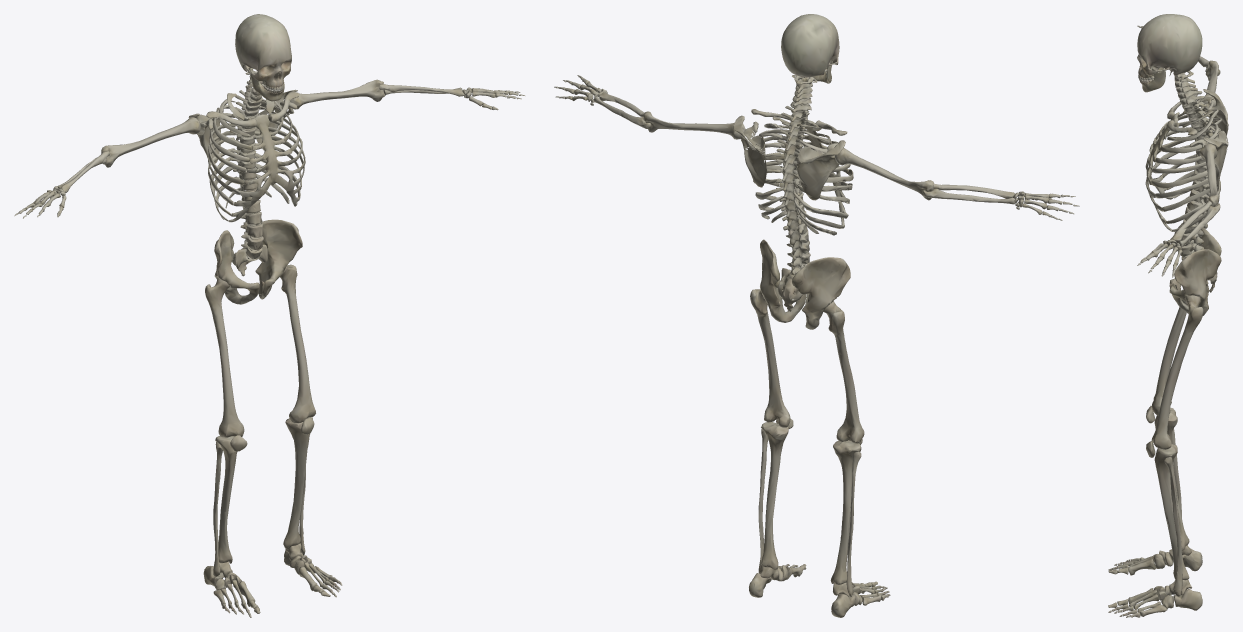
File: skel.glb
3 views of the same model, side by side, from view 1: azimuth 30°, elevation 25°; view 2: azimuth 150°, elevation 25°; view 3: azimuth 270°, elevation 25° (orthographic). The views are drawn at different scales.
Parts seen in each view (by area): view 1: torso, tibR, femR, femL, tibL, footR, footL, humR, radL, humL, radR; view 2: torso, tibL, tibR, femR, femL, scapR, radR, footR, scapL, humR, humL, radL (+1 smaller); view 3: torso, tibL, femL, footL, footR, femR, radL, tibR, humL, scapL, scapR, humR (+2 smaller).
Part boxes in pixels (x1,y1,x2,y2): torso: (208,14,305,304); tibR: (213,435,247,576); femR: (205,278,244,437); femL: (280,264,315,423); tibL: (283,417,314,555); footR: (203,561,260,617); footL: (284,543,342,597); humR: (101,117,200,167); radL: (379,84,524,110); humL: (290,79,385,109); radR: (14,151,109,218); torso: (734,14,853,329); tibL: (758,418,793,572); tibR: (830,439,862,596); femR: (823,301,864,443); femL: (750,289,790,427); scapR: (796,140,845,200); radR: (933,183,1079,220); footR: (831,581,890,617); scapL: (733,115,766,187); humR: (835,148,933,200); humL: (643,111,745,139); radL: (554,75,644,116); torso: (1137,14,1227,315); tibL: (1146,441,1189,596); femL: (1151,295,1203,449); footL: (1108,579,1202,617); footR: (1108,545,1202,575); femR: (1151,304,1188,415); radL: (1137,199,1211,277); tibR: (1146,405,1189,550); humL: (1200,143,1218,206); scapL: (1201,130,1228,186); scapR: (1200,89,1228,135); humR: (1202,60,1218,106).
Bounding box in the file's own units: 1.71 × 1.83 × 0.3475.
